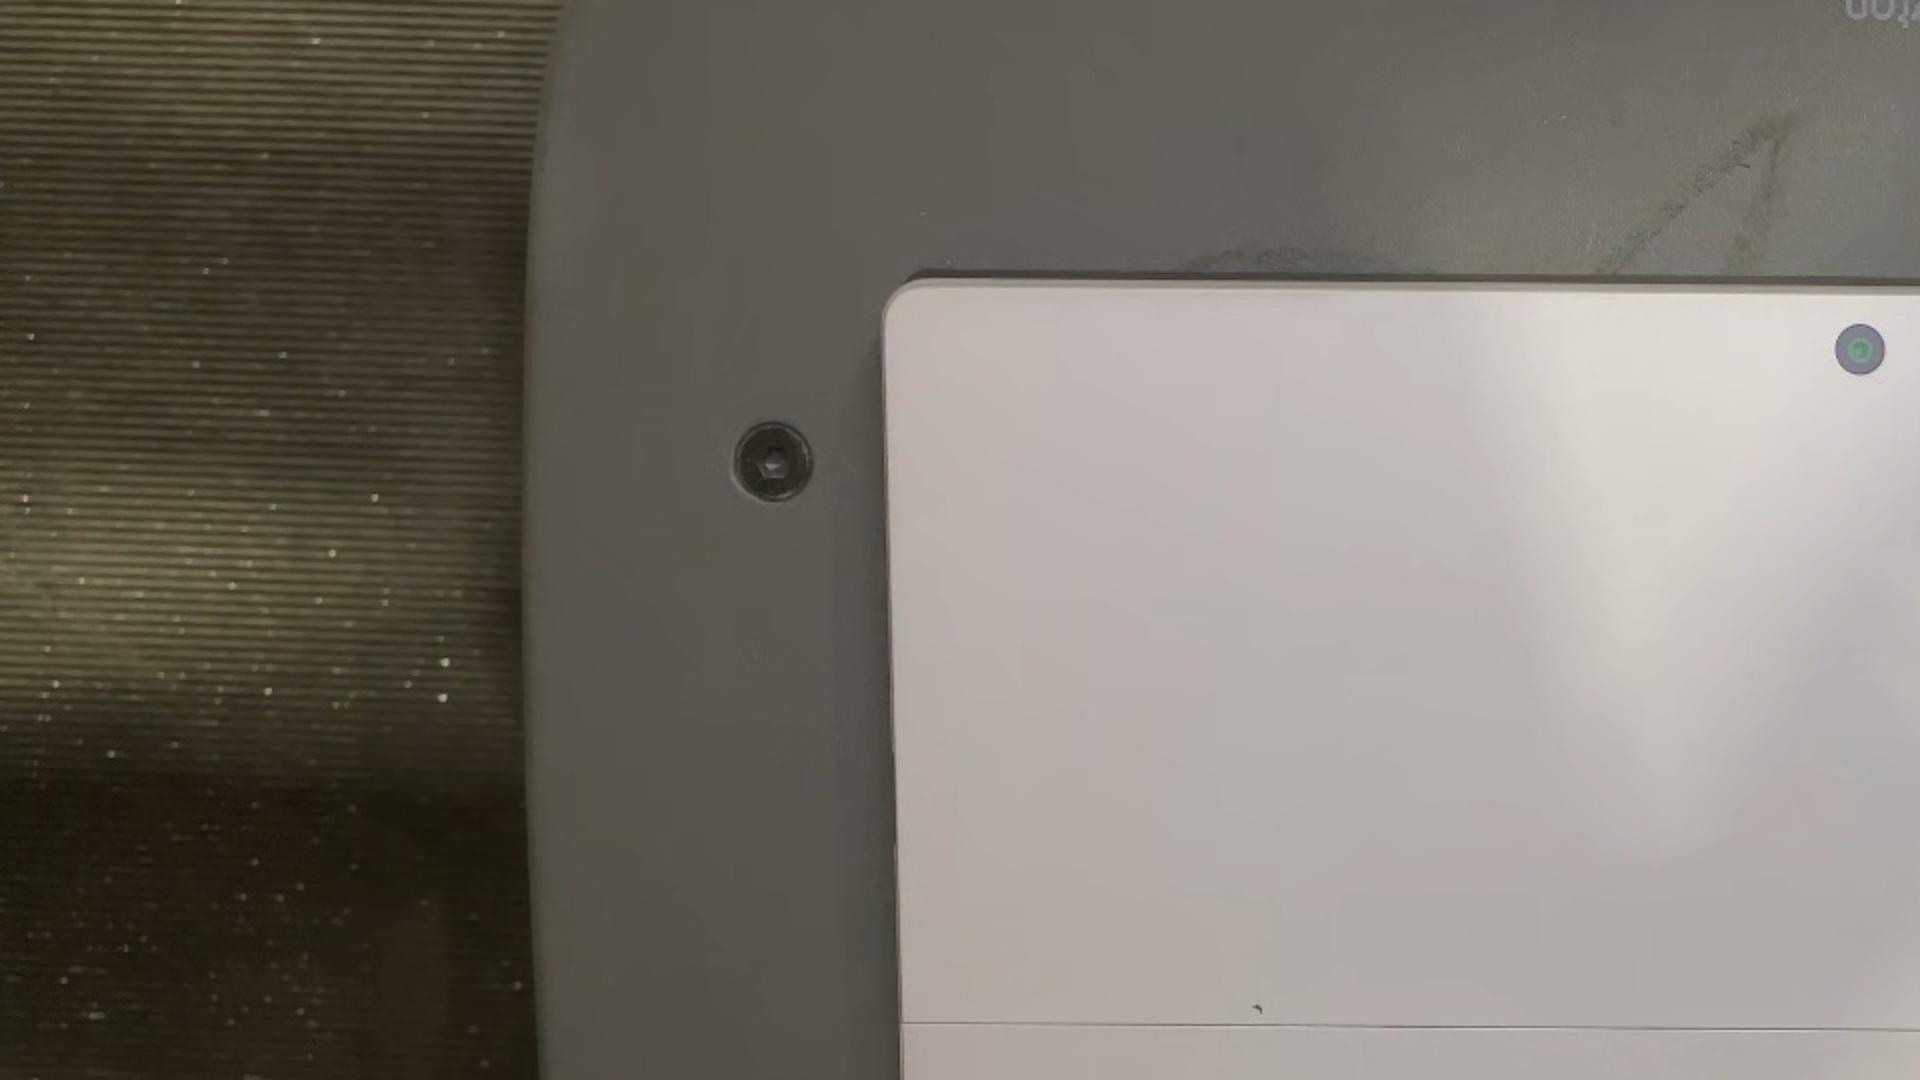chip: (1250, 1001, 1266, 1015)
